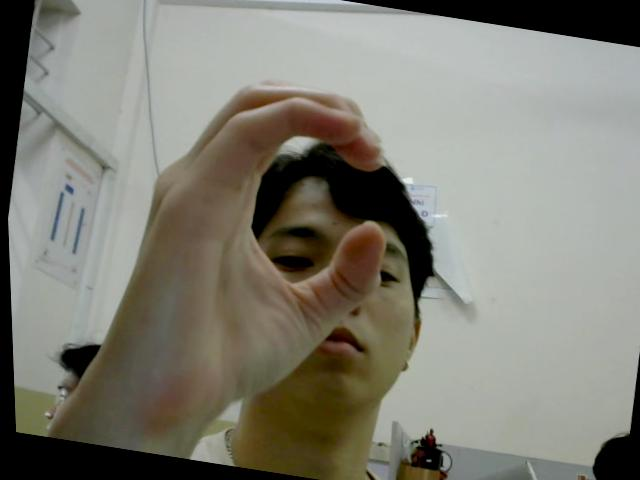C: (96, 57, 411, 436)
